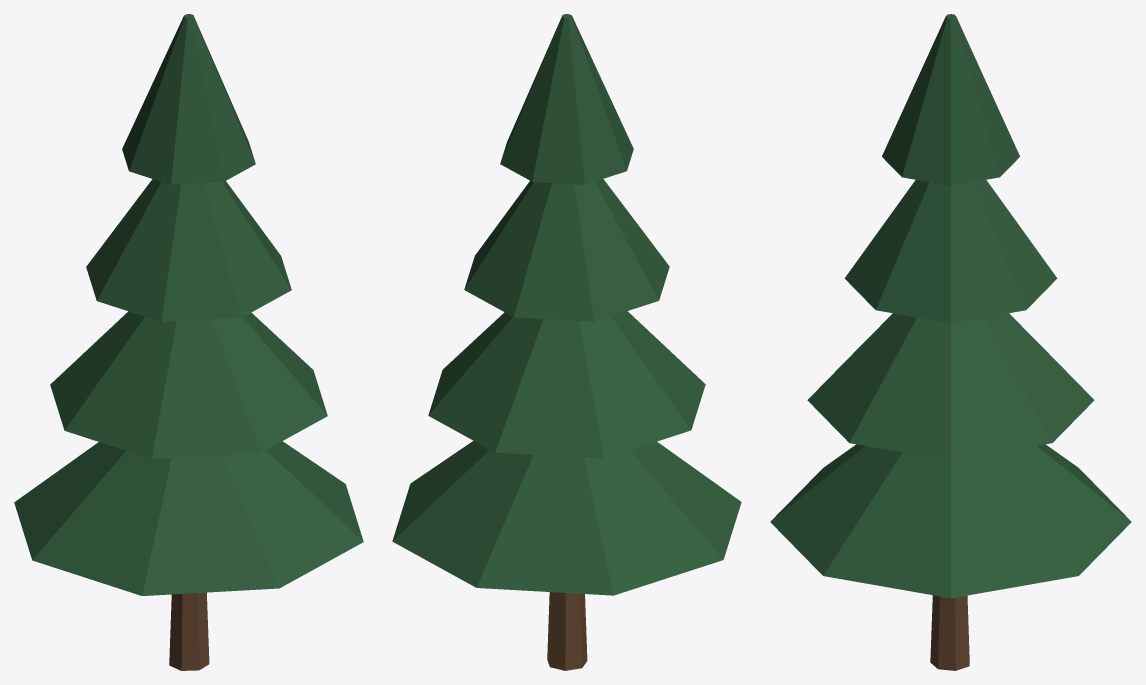
File: VG_Tree_Pine.fbx
The picture shows the model from 3 angles, left to right: view 1: azimuth 30°, elevation 25°; view 2: azimuth 150°, elevation 25°; view 3: azimuth 270°, elevation 25°; orthographic projection.
Visible parts, largest first — view 1: VG_Tree_Pine_Mesh; view 2: VG_Tree_Pine_Mesh; view 3: VG_Tree_Pine_Mesh.
Boxes of the visible parts, x1=… form: VG_Tree_Pine_Mesh: x1=14, y1=14, x2=363, y2=670; VG_Tree_Pine_Mesh: x1=392, y1=14, x2=741, y2=670; VG_Tree_Pine_Mesh: x1=770, y1=14, x2=1131, y2=670.
Bounding box in the file's own units: 3.5 × 6.9 × 3.5.
